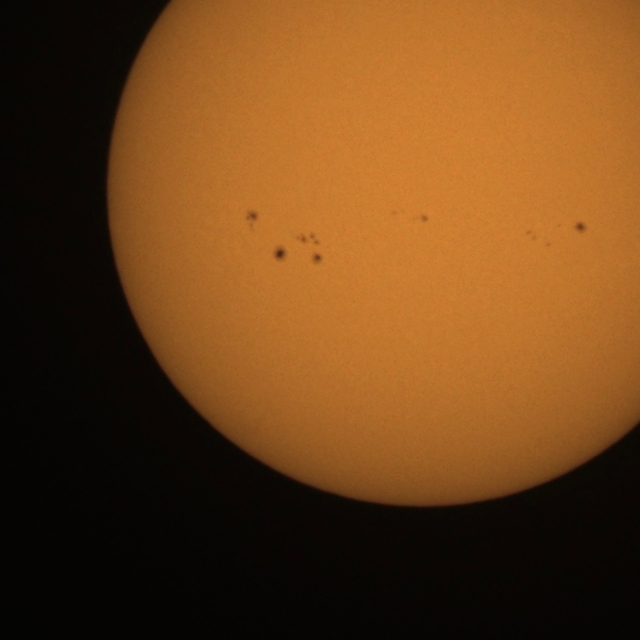sunspot: (526, 229, 556, 249), (296, 232, 321, 249), (305, 250, 326, 265), (245, 209, 259, 230), (272, 244, 287, 263), (573, 220, 588, 234), (526, 229, 539, 242), (419, 213, 430, 224)
